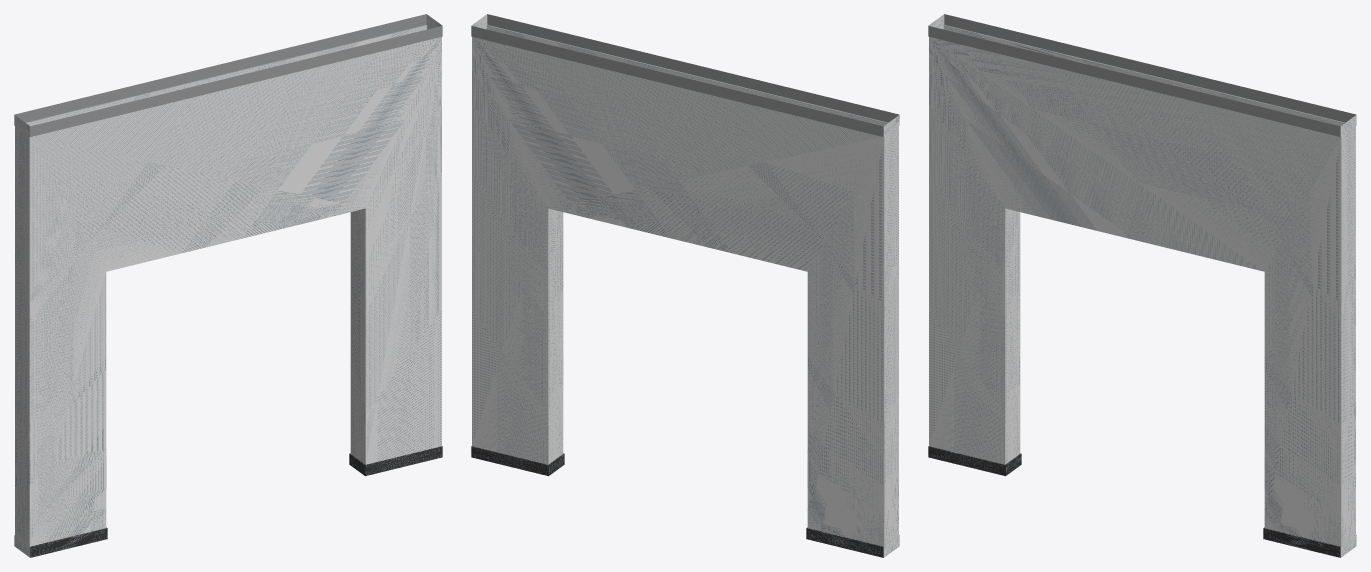
The model's file is BlockWall_ds_plinth_[400x400]_252x247_double_doorway.dae.
3 views of the same model, side by side, from view 1: azimuth 30°, elevation 25°; view 2: azimuth 150°, elevation 25°; view 3: azimuth 330°, elevation 25° (orthographic).
Visible parts, largest first — view 1: group_0 (×5); view 2: group_0 (×5); view 3: group_0 (×5).
Part boxes in pixels (bbox=[...]): group_0 (×5): bbox=[14, 14, 442, 557]; group_0 (×5): bbox=[471, 14, 899, 557]; group_0 (×5): bbox=[928, 14, 1356, 557].
Size of the model in its own units: 157 by 10.63 by 157.
